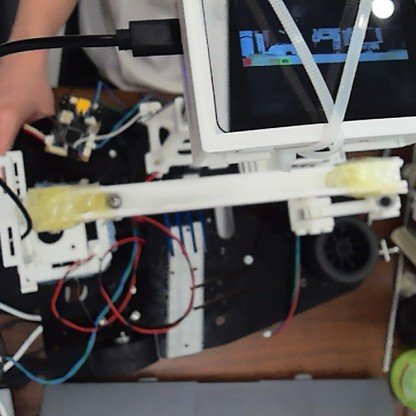ironball: (104, 190, 124, 210)
